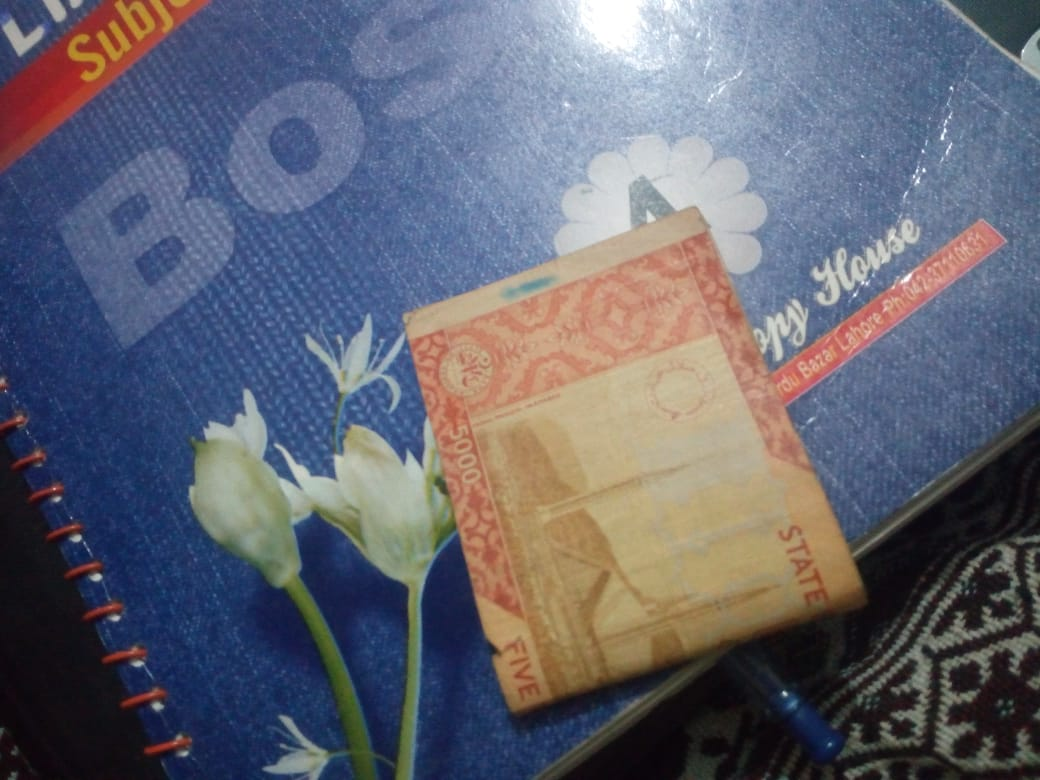5000 rupee: (389, 241, 837, 690)
